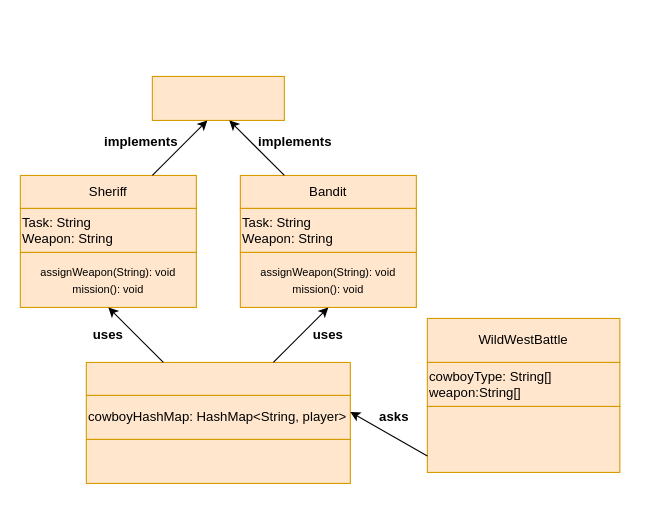
The diagram is 645 pixels wide and 525 high, and some of its shapes have lost their labels. The box of each missing label's shape, as (x1, y1, x2, y2) in pixels:
Cowboy (interface): (151, 75, 284, 120)
CowboyFactory: (85, 361, 350, 395)
getCowboy(String): Cowboy: (85, 438, 350, 483)
getRandomCowboyType: String getRandomWeapon: String createCowboy: void: (426, 405, 620, 472)
